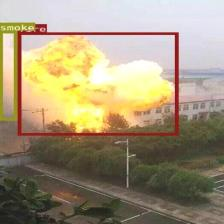fire: (17, 32, 178, 135)
smoke: (0, 30, 16, 119)
